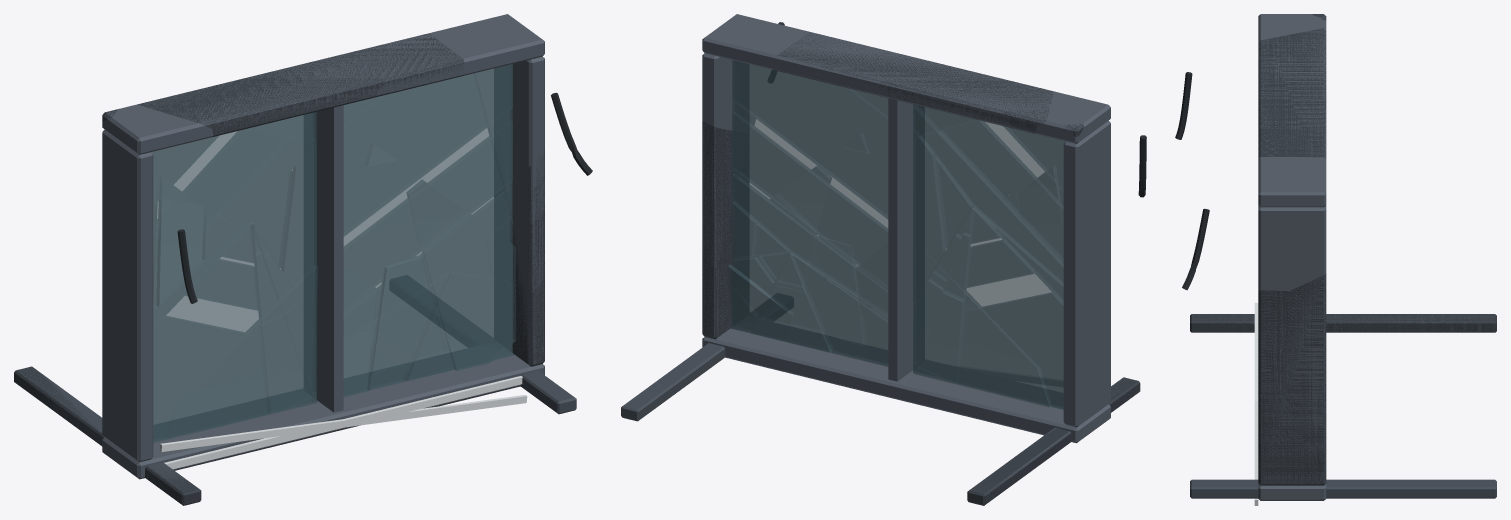
Rendered from shr_cmp_generic_panel_glass_c.glb.
3 renders of one model, left to right at view 1: azimuth 30°, elevation 25°; view 2: azimuth 150°, elevation 25°; view 3: azimuth 270°, elevation 25°, orthographic. The views are drawn at different scales.
Visible parts, largest first — view 1: mesh_intact, mesh_light, mesh_heavy; view 2: mesh_intact, mesh_light, mesh_heavy; view 3: mesh_heavy, mesh_intact, mesh_light.
Part boxes in pixels (x1,y1,x2,y2): mesh_intact: (102,14,544,469); mesh_light: (14,14,544,503); mesh_heavy: (14,34,592,505); mesh_intact: (702,14,1110,425); mesh_light: (702,15,1140,504); mesh_heavy: (621,22,1146,505); mesh_heavy: (1175,14,1496,505); mesh_intact: (1254,14,1326,484); mesh_light: (1191,14,1495,484).
Bounding box in the file's own units: 1.01 × 0.8348 × 0.7549.
